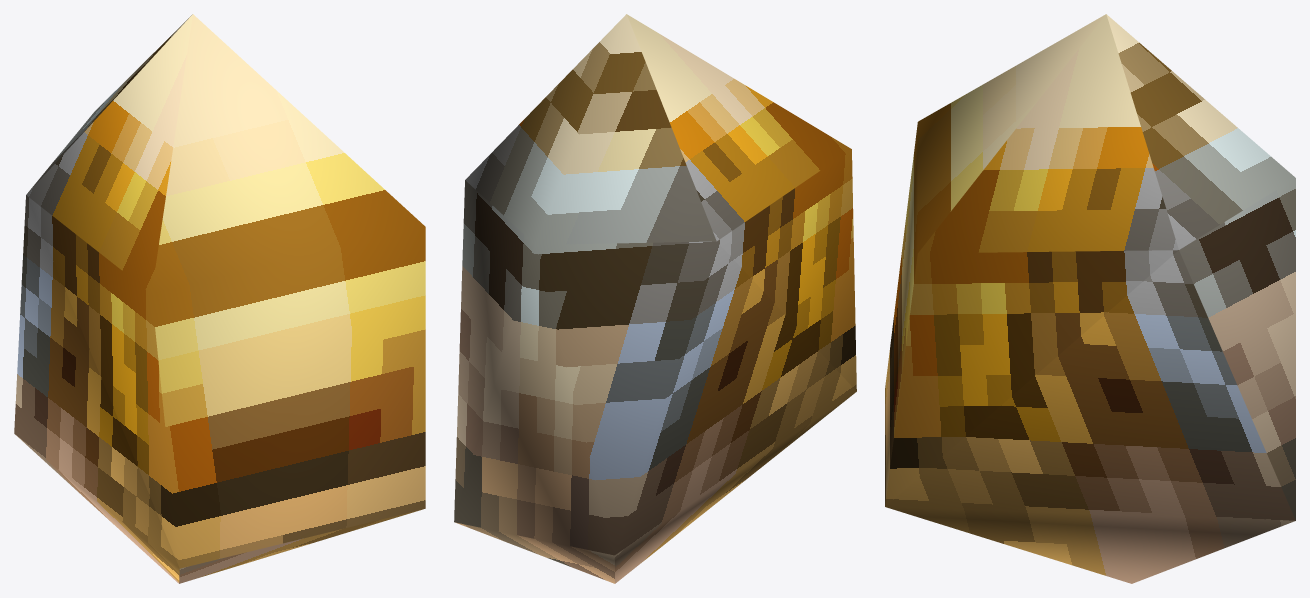
Rendered from archer_x_head_iron.glb.
3 views of the same model, side by side, from view 1: azimuth 30°, elevation 25°; view 2: azimuth 150°, elevation 25°; view 3: azimuth 270°, elevation 25° (orthographic). The views are drawn at different scales.
Parts seen in each view (by area): view 1: MeshRoot; view 2: MeshRoot; view 3: MeshRoot.
Part boxes in pixels (left/top/right/bottom): MeshRoot: left=14, top=14, right=425, bottom=583; MeshRoot: left=454, top=14, right=856, bottom=583; MeshRoot: left=885, top=14, right=1295, bottom=583.
Size of the model in its own units: 0.209 by 0.4219 by 0.2754.
1 material, 1 textured.
